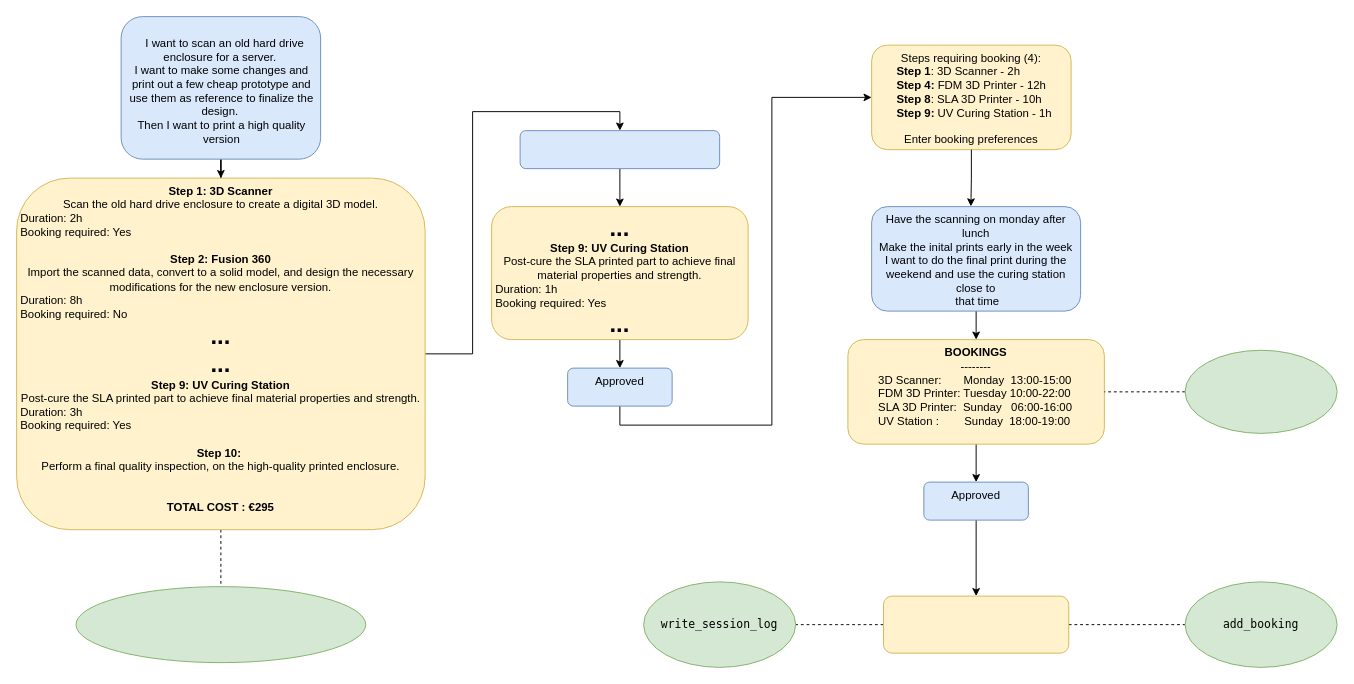
This 1354x684 diagram has some shape labels left out. The shapes that lost their labels are listed below. From the top down, each one's box as (x1, y1, x2, y2) in pixels, then its label:
(519, 130, 720, 169): The UV machine won't need more then an hour
(1184, 349, 1337, 433): get_available_slots
(75, 586, 366, 663): get_additive_manufacturing_equipment
(883, 595, 1069, 653): Equipment has been booked === Session completed and logged
